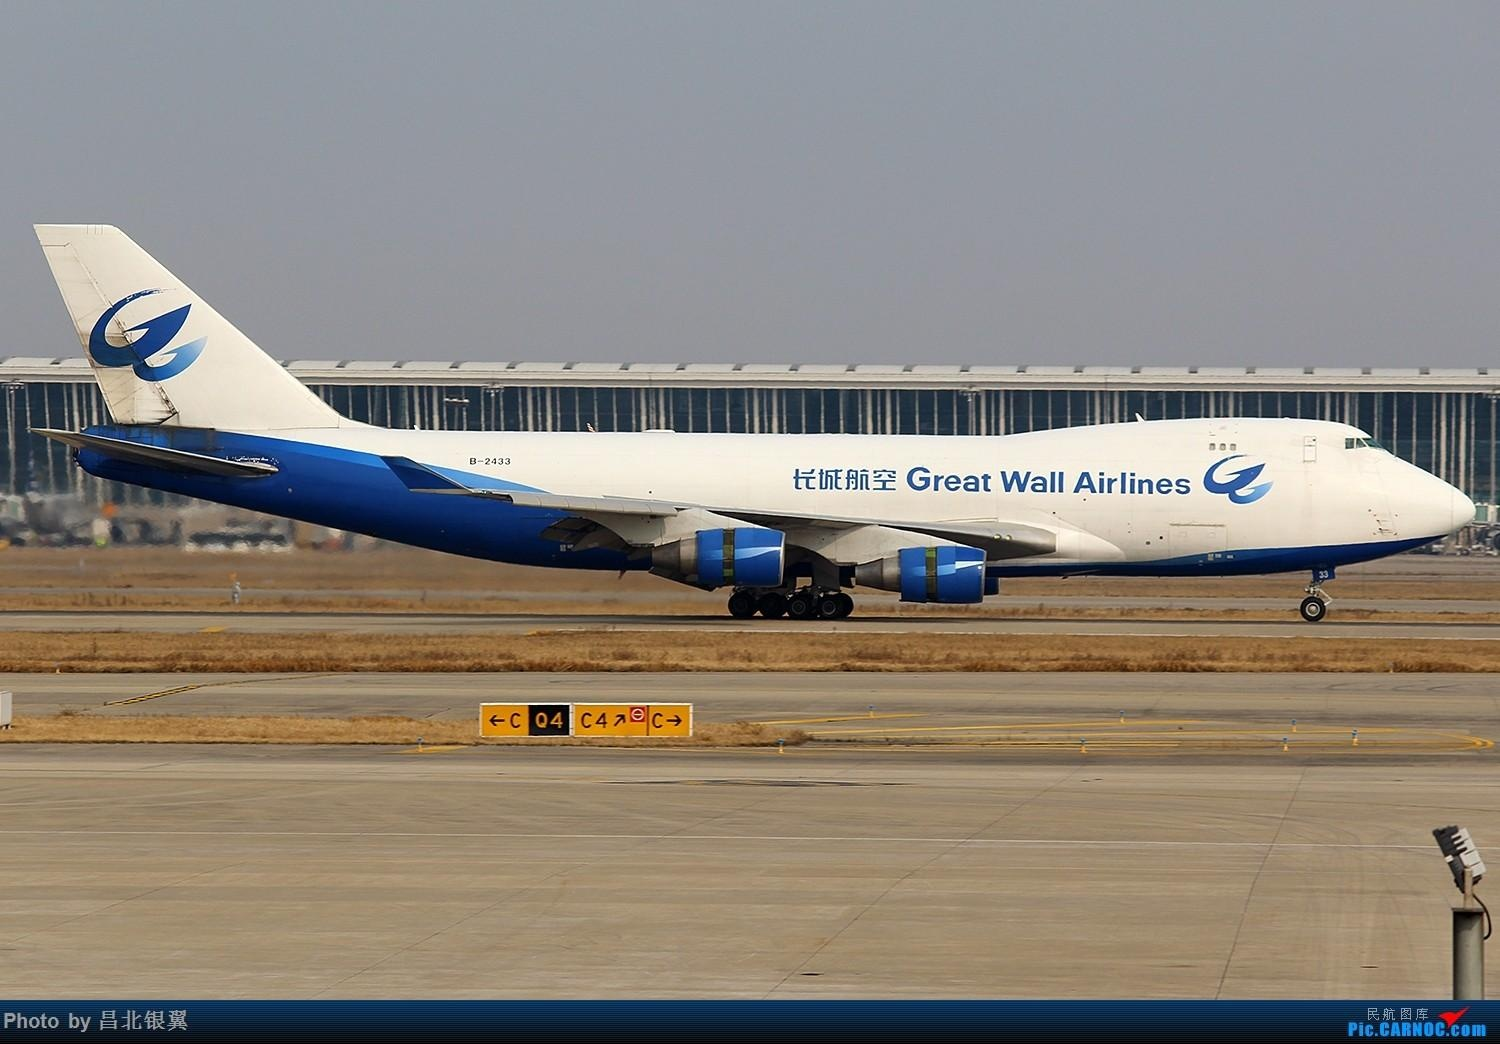airplane: (36, 204, 1479, 617)
